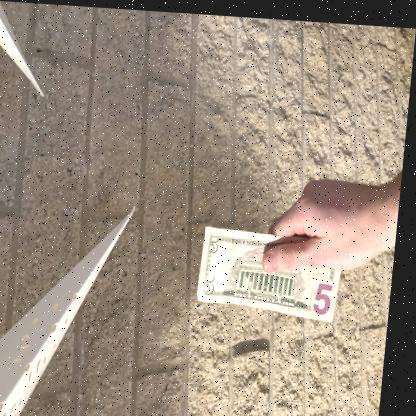five-back: (195, 223, 339, 323)
